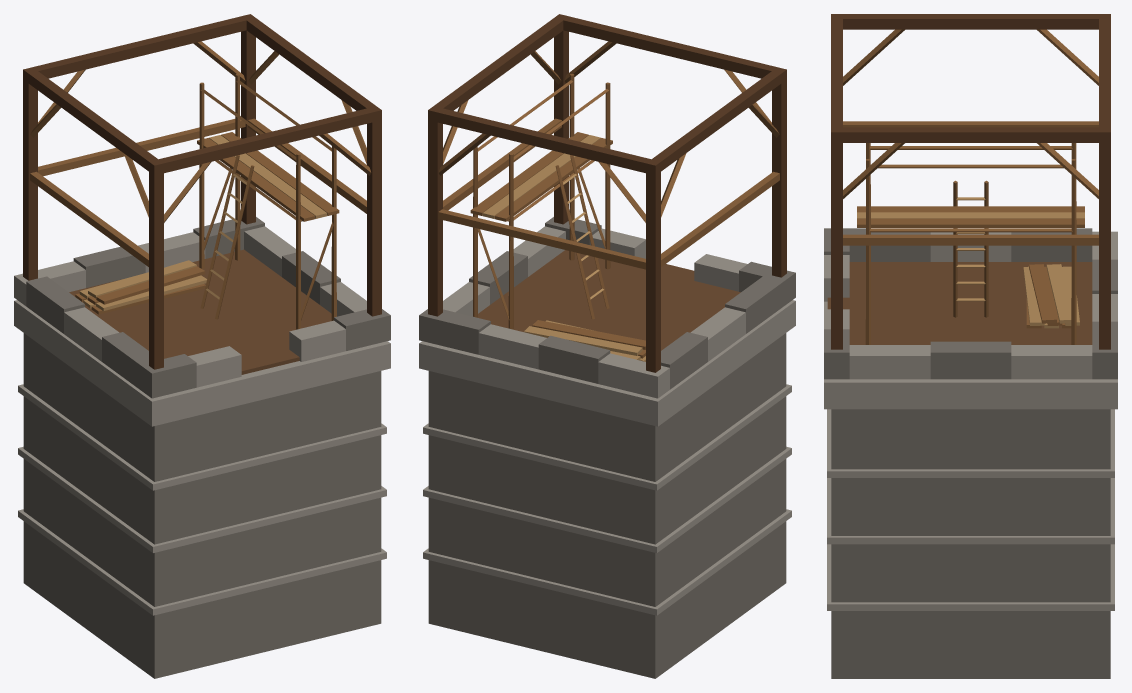
Rendered from site_4x4_2.glb.
3 renders of one model, left to right at view 1: azimuth 30°, elevation 25°; view 2: azimuth 150°, elevation 25°; view 3: azimuth 270°, elevation 25°, orthographic. The views are drawn at different scales.
Visible parts, largest first — view 1: site_4x4_2; view 2: site_4x4_2; view 3: site_4x4_2.
Part boxes in pixels (bbox=[...]): site_4x4_2: bbox=[14, 14, 390, 678]; site_4x4_2: bbox=[419, 14, 795, 678]; site_4x4_2: bbox=[824, 14, 1117, 678].
Size of the model in its own units: 4 by 8.22 by 4.
